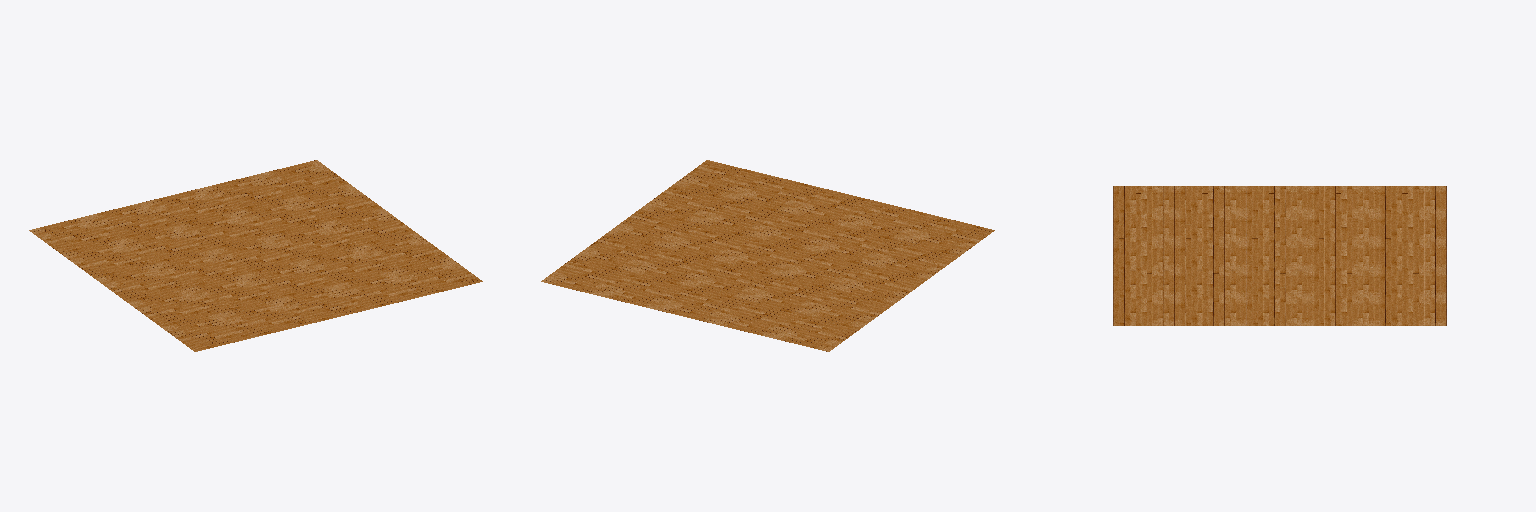
The picture shows the model from 3 angles: view 1: azimuth 30°, elevation 25°; view 2: azimuth 150°, elevation 25°; view 3: azimuth 270°, elevation 25°; orthographic projection.
Parts seen in each view (by area): view 1: Plane; view 2: Plane; view 3: Plane.
Part boxes in pixels (x1,y1,x2,y2): Plane: (29,160,482,351); Plane: (541,160,994,351); Plane: (1113,186,1446,325).
Bounding box in the file's own units: 2 × 0 × 2.
1 materials, 1 textured.